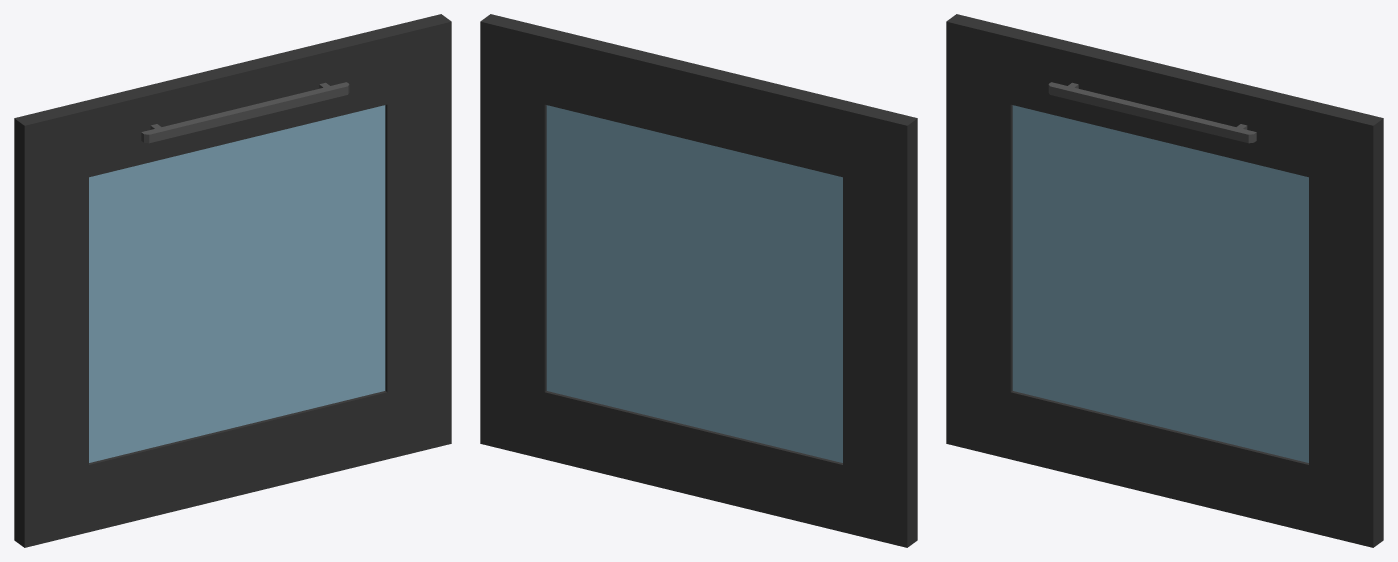
Rendered from Oven1_02.fbx.
The picture shows the model from 3 angles, left to right: view 1: azimuth 30°, elevation 25°; view 2: azimuth 150°, elevation 25°; view 3: azimuth 330°, elevation 25°; orthographic projection.
Visible parts, largest first — view 1: Oven1_02; view 2: Oven1_02; view 3: Oven1_02.
Boxes of the visible parts, left/top/right/bottom form: Oven1_02: left=14, top=14, right=451, bottom=547; Oven1_02: left=480, top=14, right=917, bottom=547; Oven1_02: left=946, top=14, right=1383, bottom=547.
Size of the model in its own units: 59.2 by 55.91 by 5.01.
